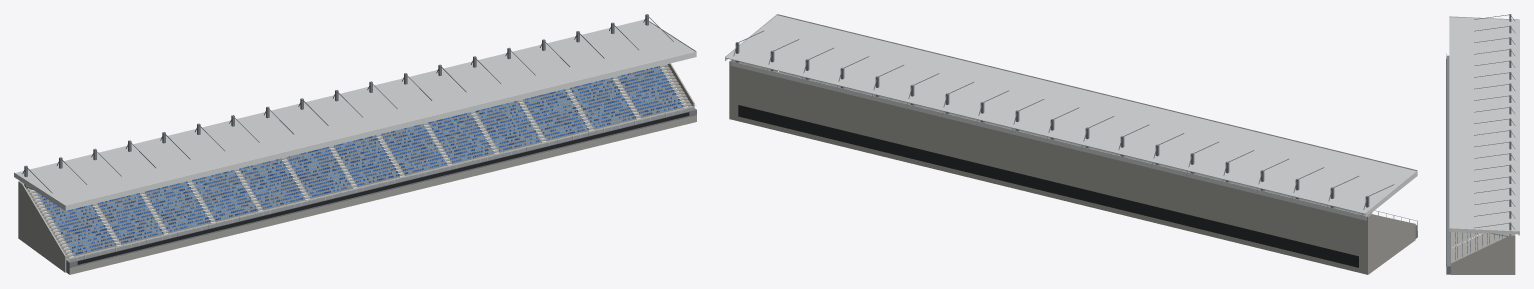
File: spo_stand_m_c.glb
3 renders of one model, left to right at view 1: azimuth 30°, elevation 25°; view 2: azimuth 150°, elevation 25°; view 3: azimuth 270°, elevation 25°, orthographic. The views are drawn at different scales.
Parts seen in each view (by area): view 1: sao-paulo-sector-m; view 2: sao-paulo-sector-m; view 3: sao-paulo-sector-m.
Boxes of the visible parts, box(x1,y1,x2,y2) form: sao-paulo-sector-m: box(14, 14, 696, 274); sao-paulo-sector-m: box(725, 14, 1417, 274); sao-paulo-sector-m: box(1446, 14, 1519, 274).
Size of the model in its own units: 163 by 18.2 by 23.98.
